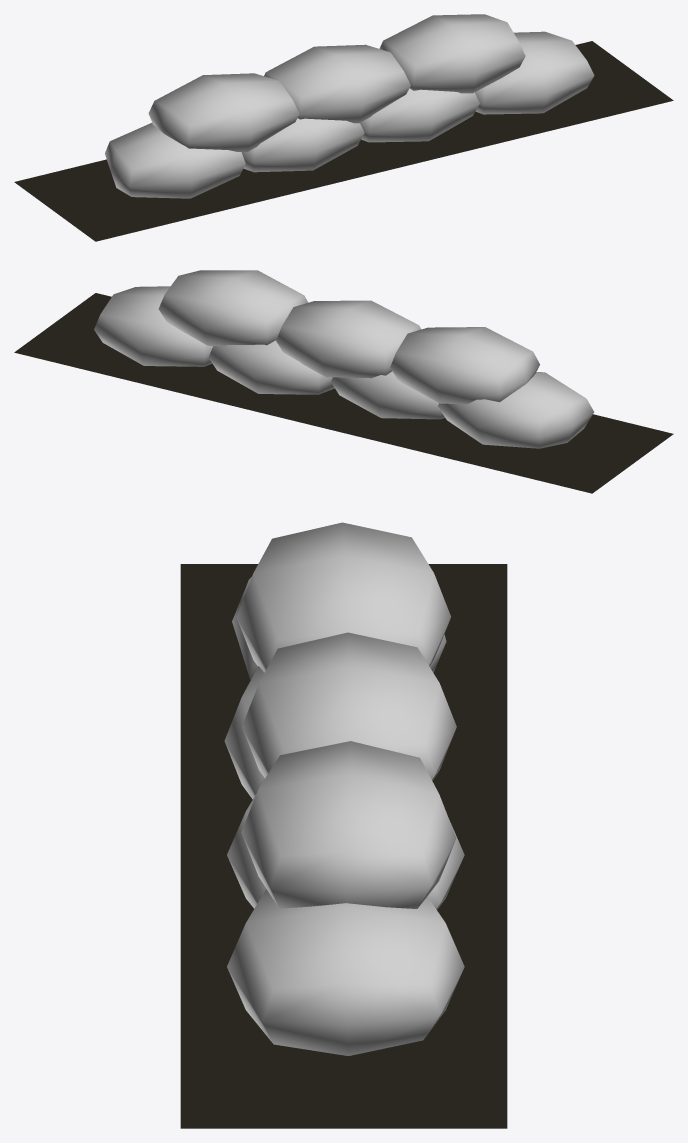
The model's file is Sandbag_04.FBX.
3 views of the same model, one above another, from view 1: azimuth 30°, elevation 25°; view 2: azimuth 150°, elevation 25°; view 3: azimuth 270°, elevation 25° (orthographic). The views are drawn at different scales.
Visible parts, largest first — view 1: sandbag_003, Plane053; view 2: sandbag_003, Plane053; view 3: sandbag_003, Plane053.
Part boxes in pixels (x1,y1,x2,y2): sandbag_003: (105, 14, 594, 198); Plane053: (14, 41, 673, 241); sandbag_003: (94, 270, 593, 448); Plane053: (14, 293, 673, 493); sandbag_003: (224, 522, 464, 1055); Plane053: (180, 564, 507, 1128).
Size of the model in its own units: 443 by 68.16 by 108.
